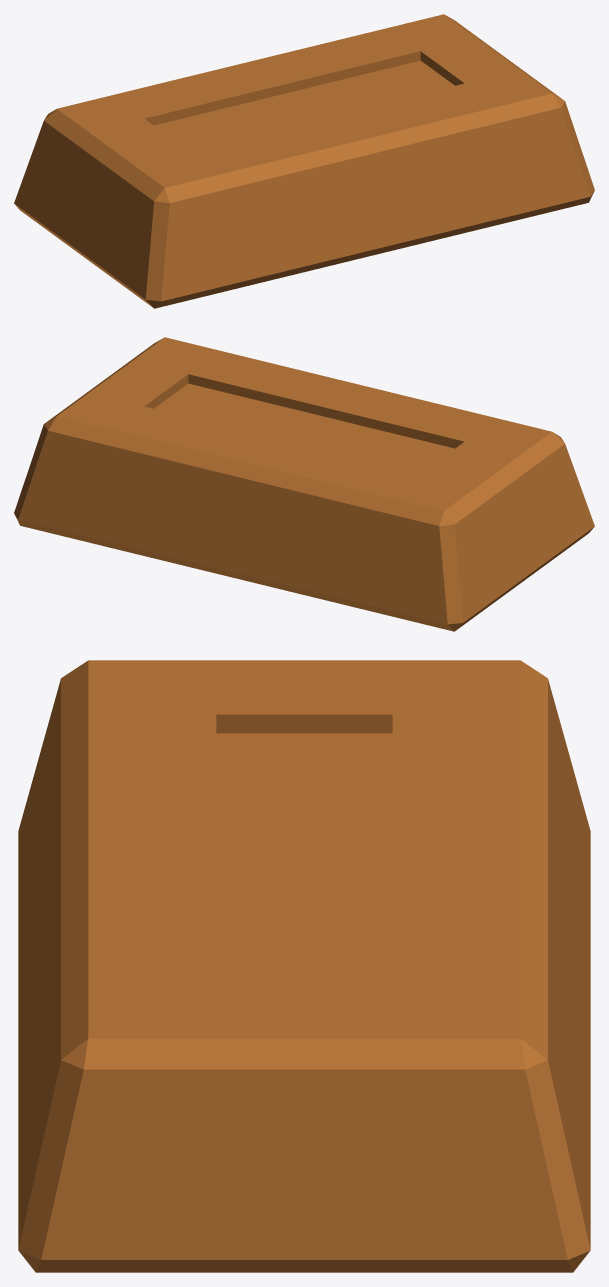
Rendered from brass_ingot.glb.
3 views of the same model, one above another, from view 1: azimuth 30°, elevation 25°; view 2: azimuth 150°, elevation 25°; view 3: azimuth 270°, elevation 25° (orthographic). The views are drawn at different scales.
Visible parts, largest first — view 1: Cube; view 2: Cube; view 3: Cube.
Boxes of the visible parts, bbox=[...] form: Cube: bbox=[14, 14, 594, 308]; Cube: bbox=[14, 337, 594, 631]; Cube: bbox=[18, 660, 590, 1272].
Bounding box in the file's own units: 0.3995 × 0.0897 × 0.2204.
